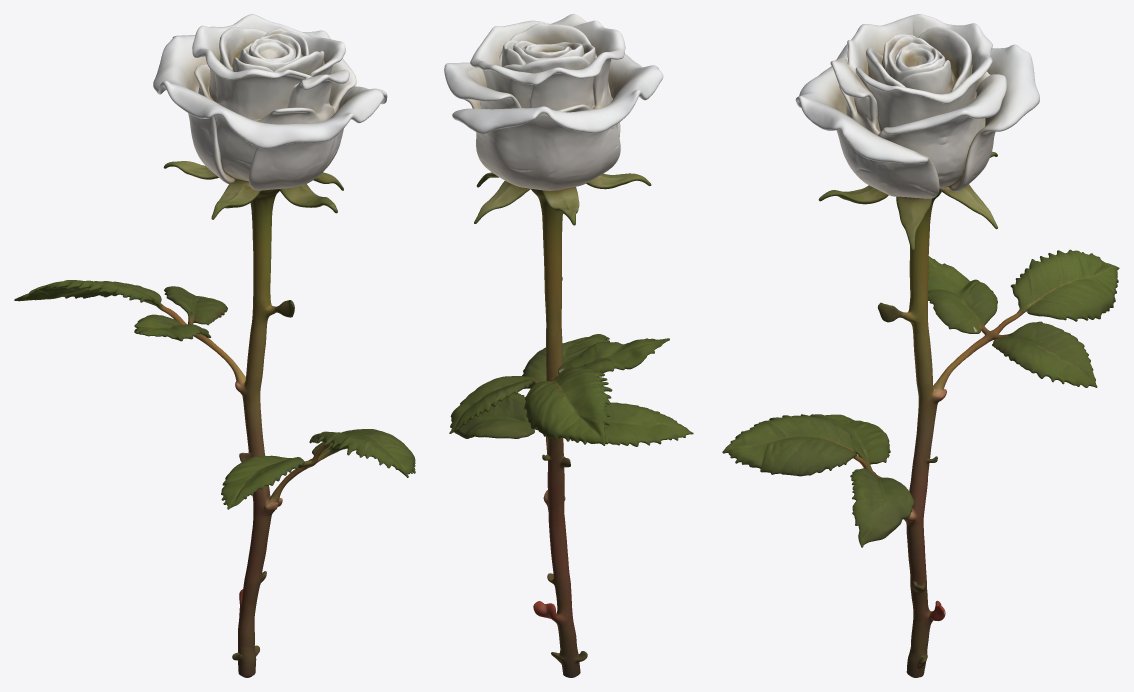
File: whiterose.glb
3 views of the same model, side by side, from view 1: azimuth 30°, elevation 25°; view 2: azimuth 150°, elevation 25°; view 3: azimuth 270°, elevation 25° (orthographic).
Parts seen in each view (by area): view 1: tripo_node_b93ce45a-10fc-456d-b2a1-c99204a13520; view 2: tripo_node_b93ce45a-10fc-456d-b2a1-c99204a13520; view 3: tripo_node_b93ce45a-10fc-456d-b2a1-c99204a13520.
Boxes of the visible parts, <box> form: tripo_node_b93ce45a-10fc-456d-b2a1-c99204a13520: <box>14,14,415,677</box>; tripo_node_b93ce45a-10fc-456d-b2a1-c99204a13520: <box>444,14,693,677</box>; tripo_node_b93ce45a-10fc-456d-b2a1-c99204a13520: <box>722,14,1119,677</box>.
Size of the model in its own units: 0.4543 by 1 by 0.5577.
Materials: 1 (1 with a texture image).
